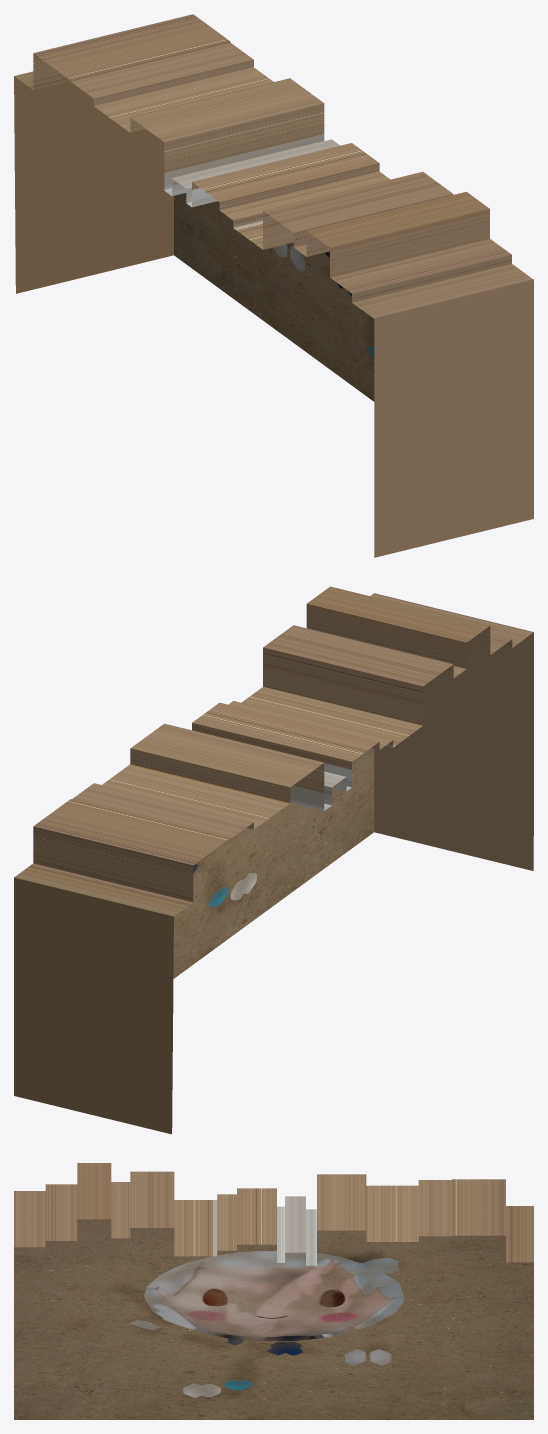
File: Books_multiple.fbx
The picture shows the model from 3 angles, top to bottom: view 1: azimuth 30°, elevation 25°; view 2: azimuth 150°, elevation 25°; view 3: azimuth 270°, elevation 25°; orthographic projection. The views are drawn at different scales.
Parts seen in each view (by area): view 1: Cube; view 2: Cube; view 3: Cube.
Part boxes in pixels (<box>): Cube: <box>14,14,533,557</box>; Cube: <box>14,586,533,1134</box>; Cube: <box>14,1163,533,1419</box>.
Size of the model in its own units: 240 by 398 by 936.
